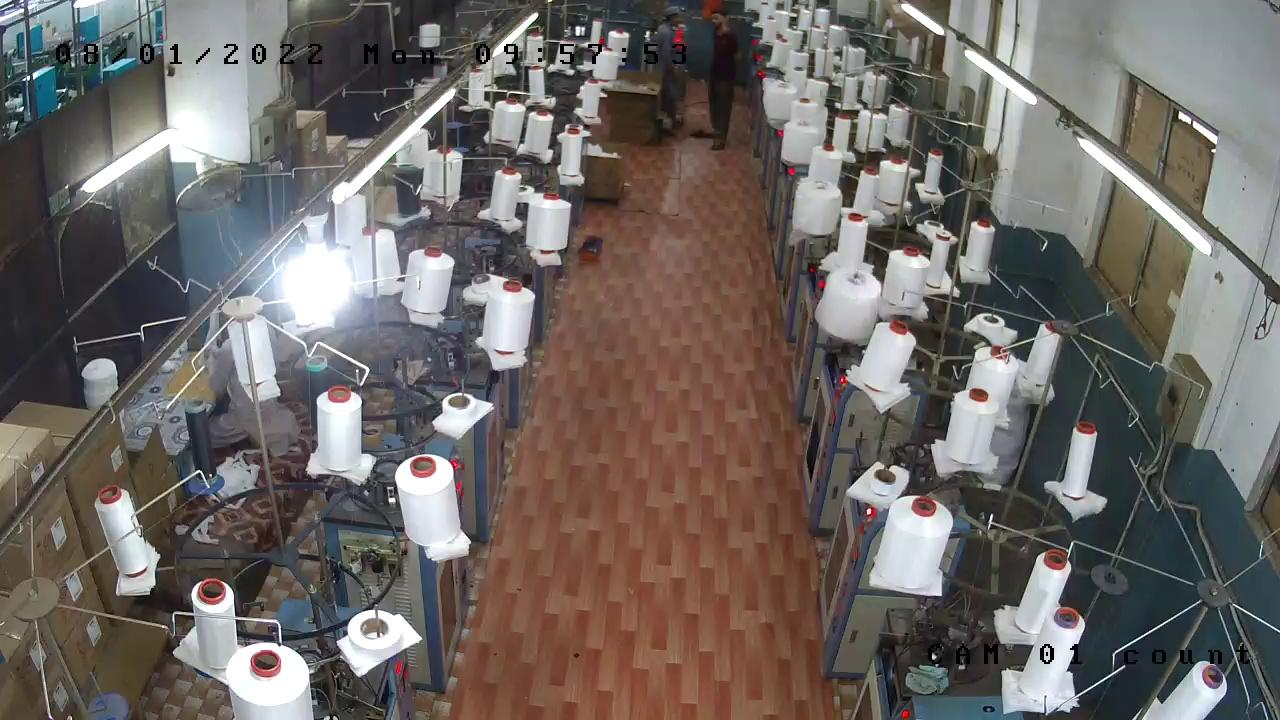person: (647, 5, 692, 118), (711, 12, 737, 140)
